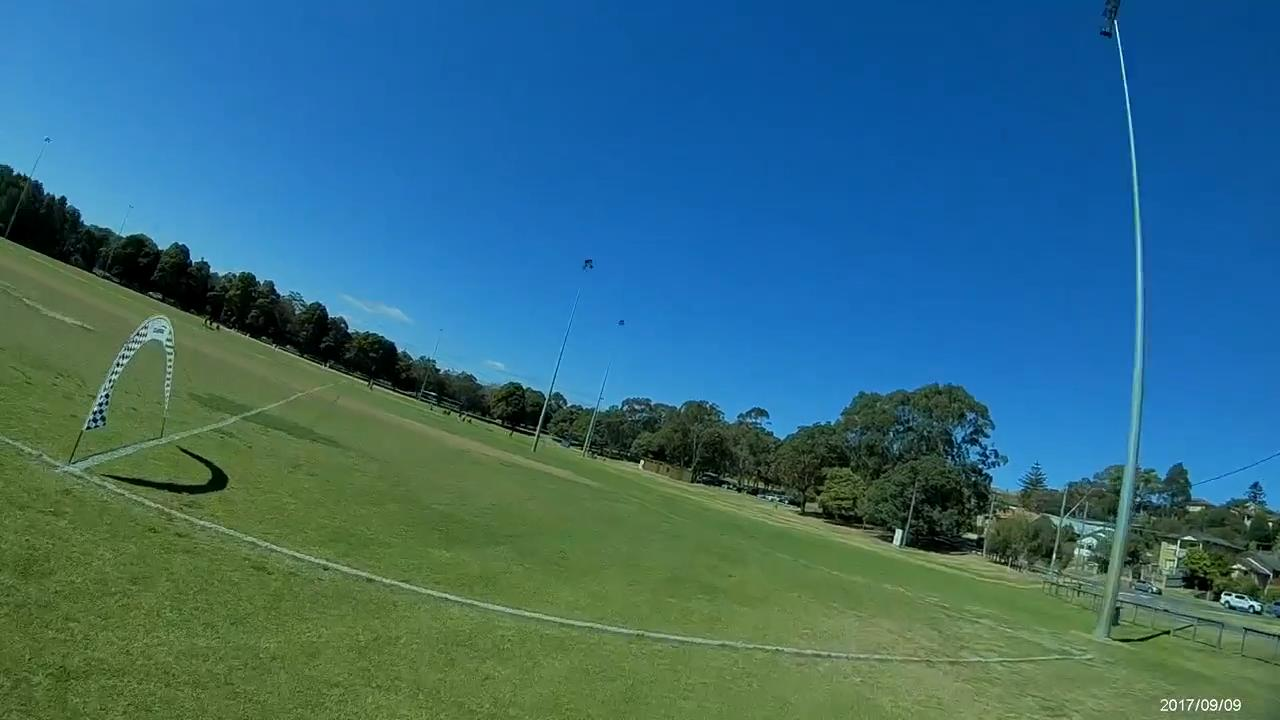gate: (86, 313, 178, 424)
